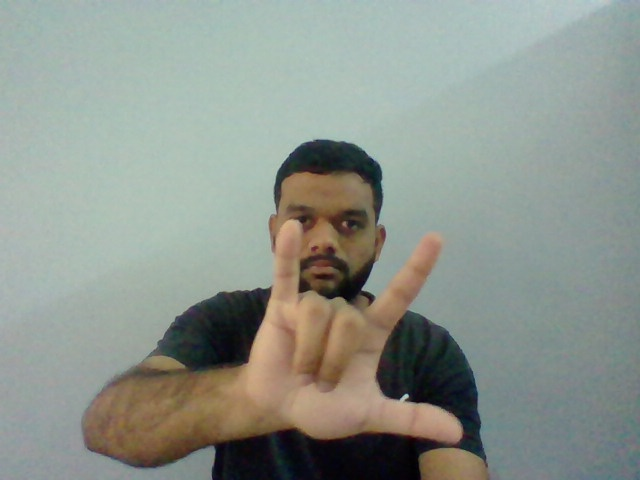I love you: (250, 216, 466, 449)
